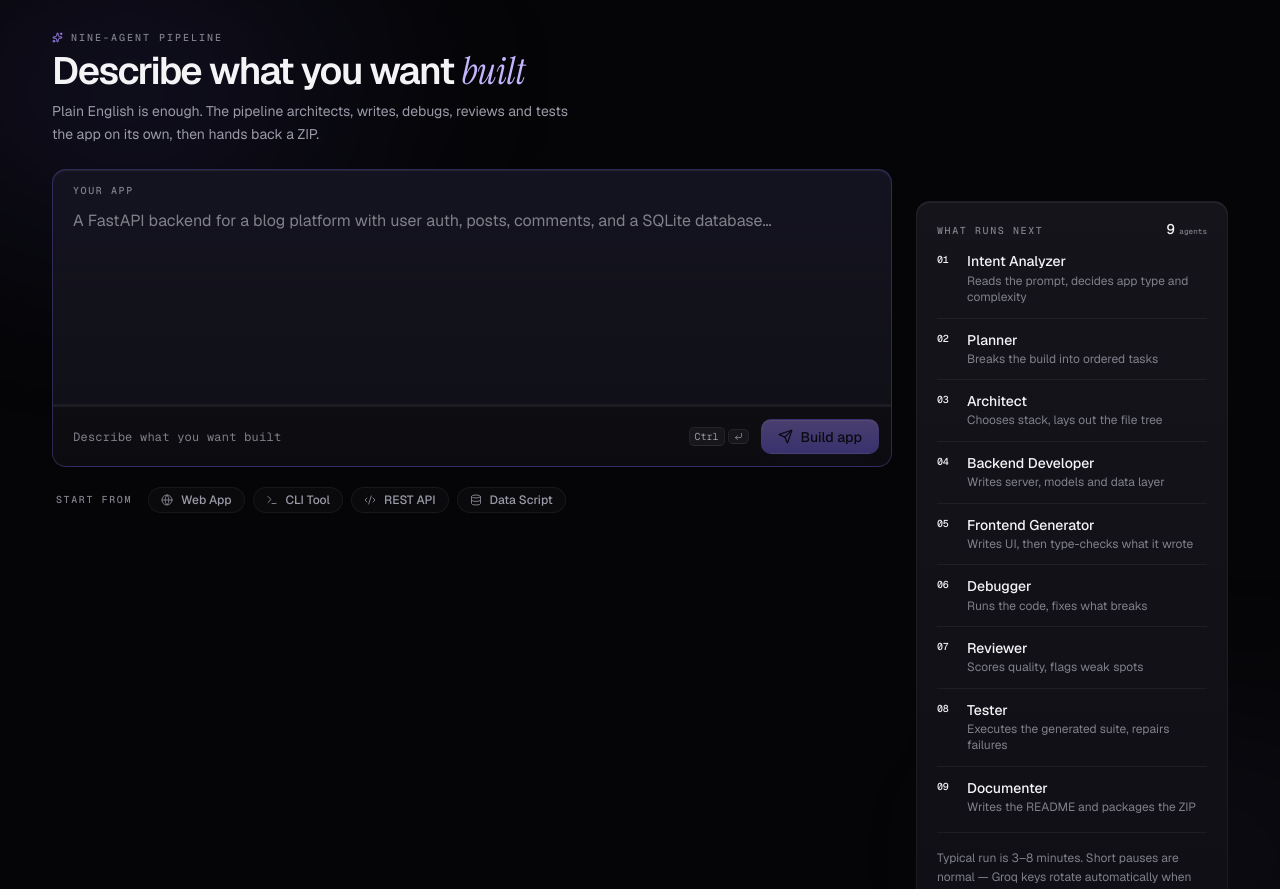
Test: NewBuild › clear › appears only once there is something to clear
Type "abc" into the text box labelled "Your app" at (472, 300), box [53,196,891,404]
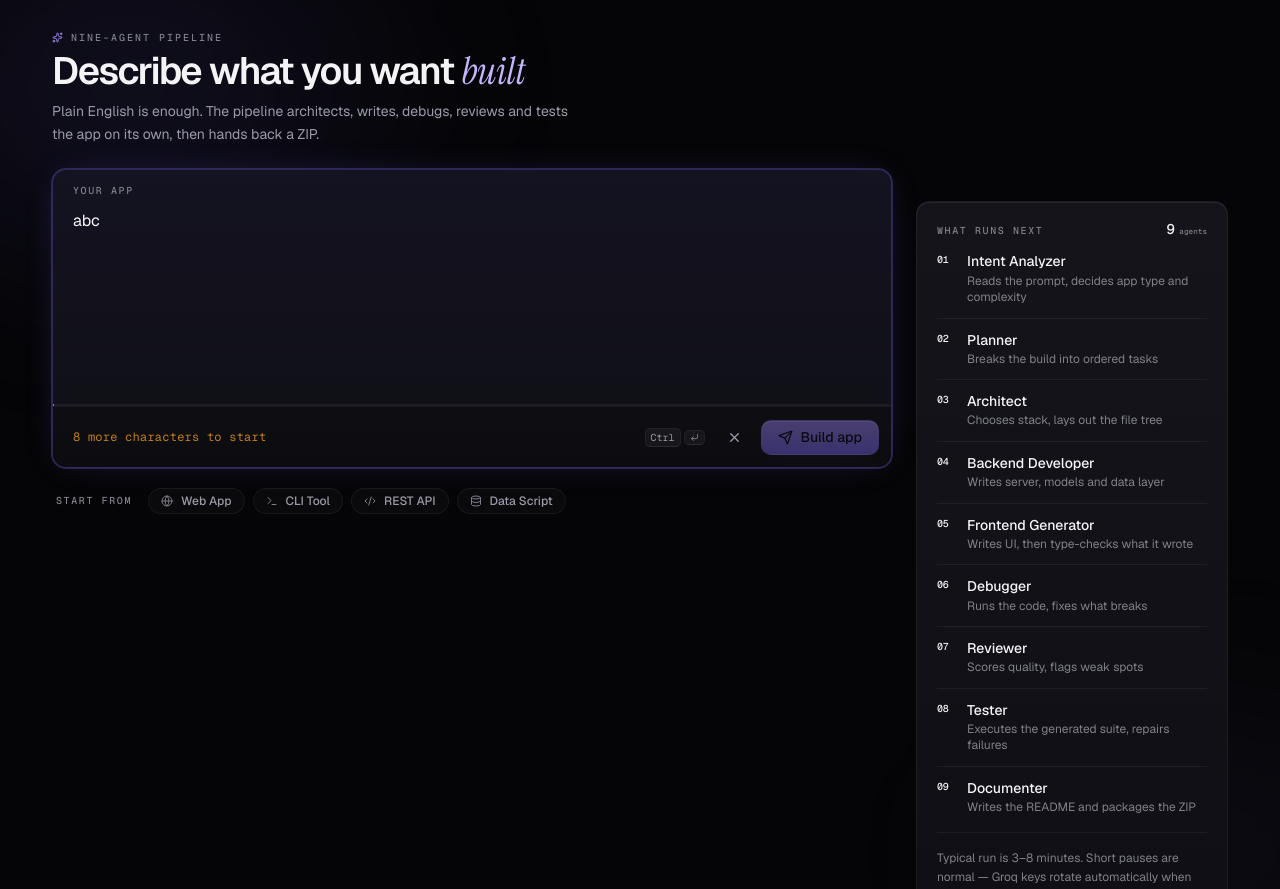
Click the button named "Clear prompt" at (734, 437), box [716,419,752,455]
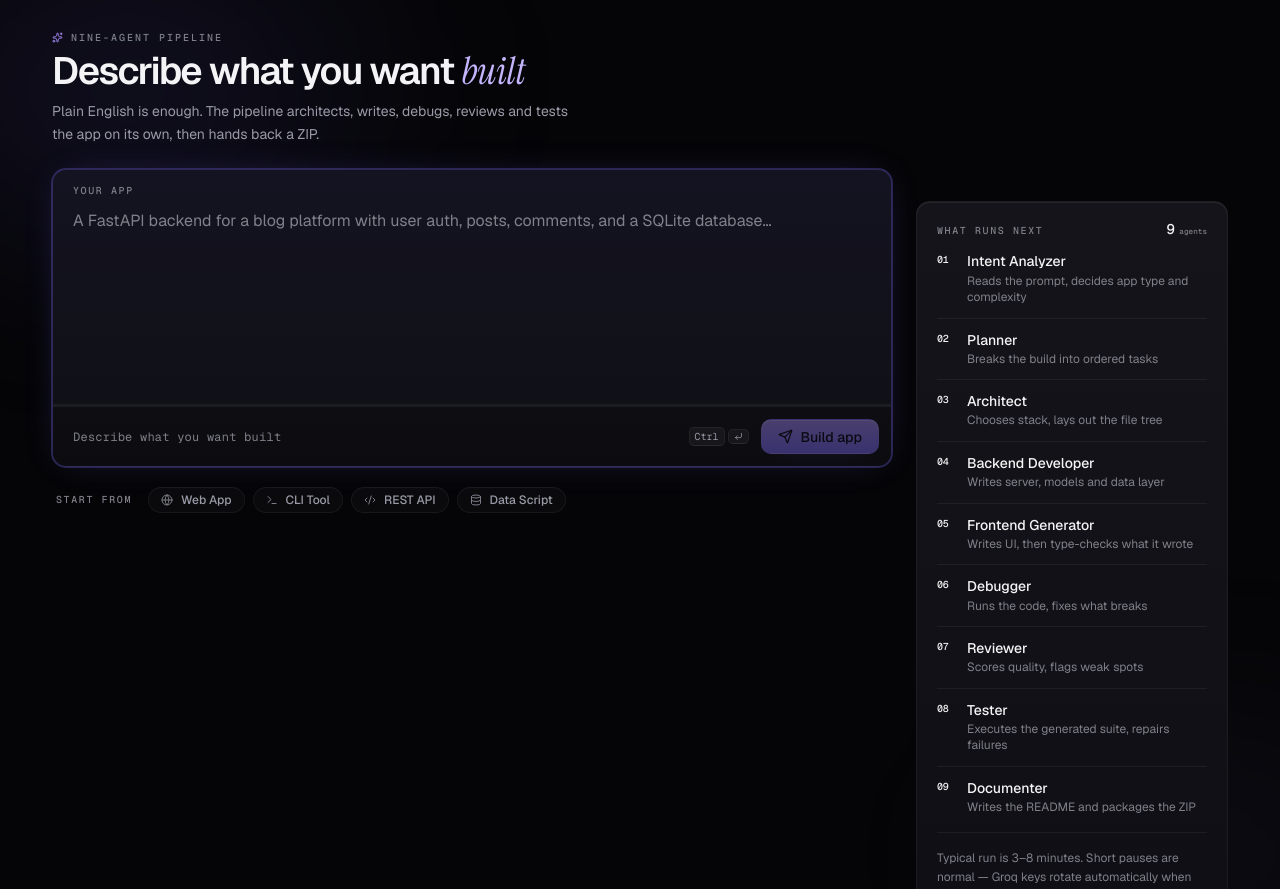
Expected: the text box labelled "Your app" is empty, [53,196,891,404]
